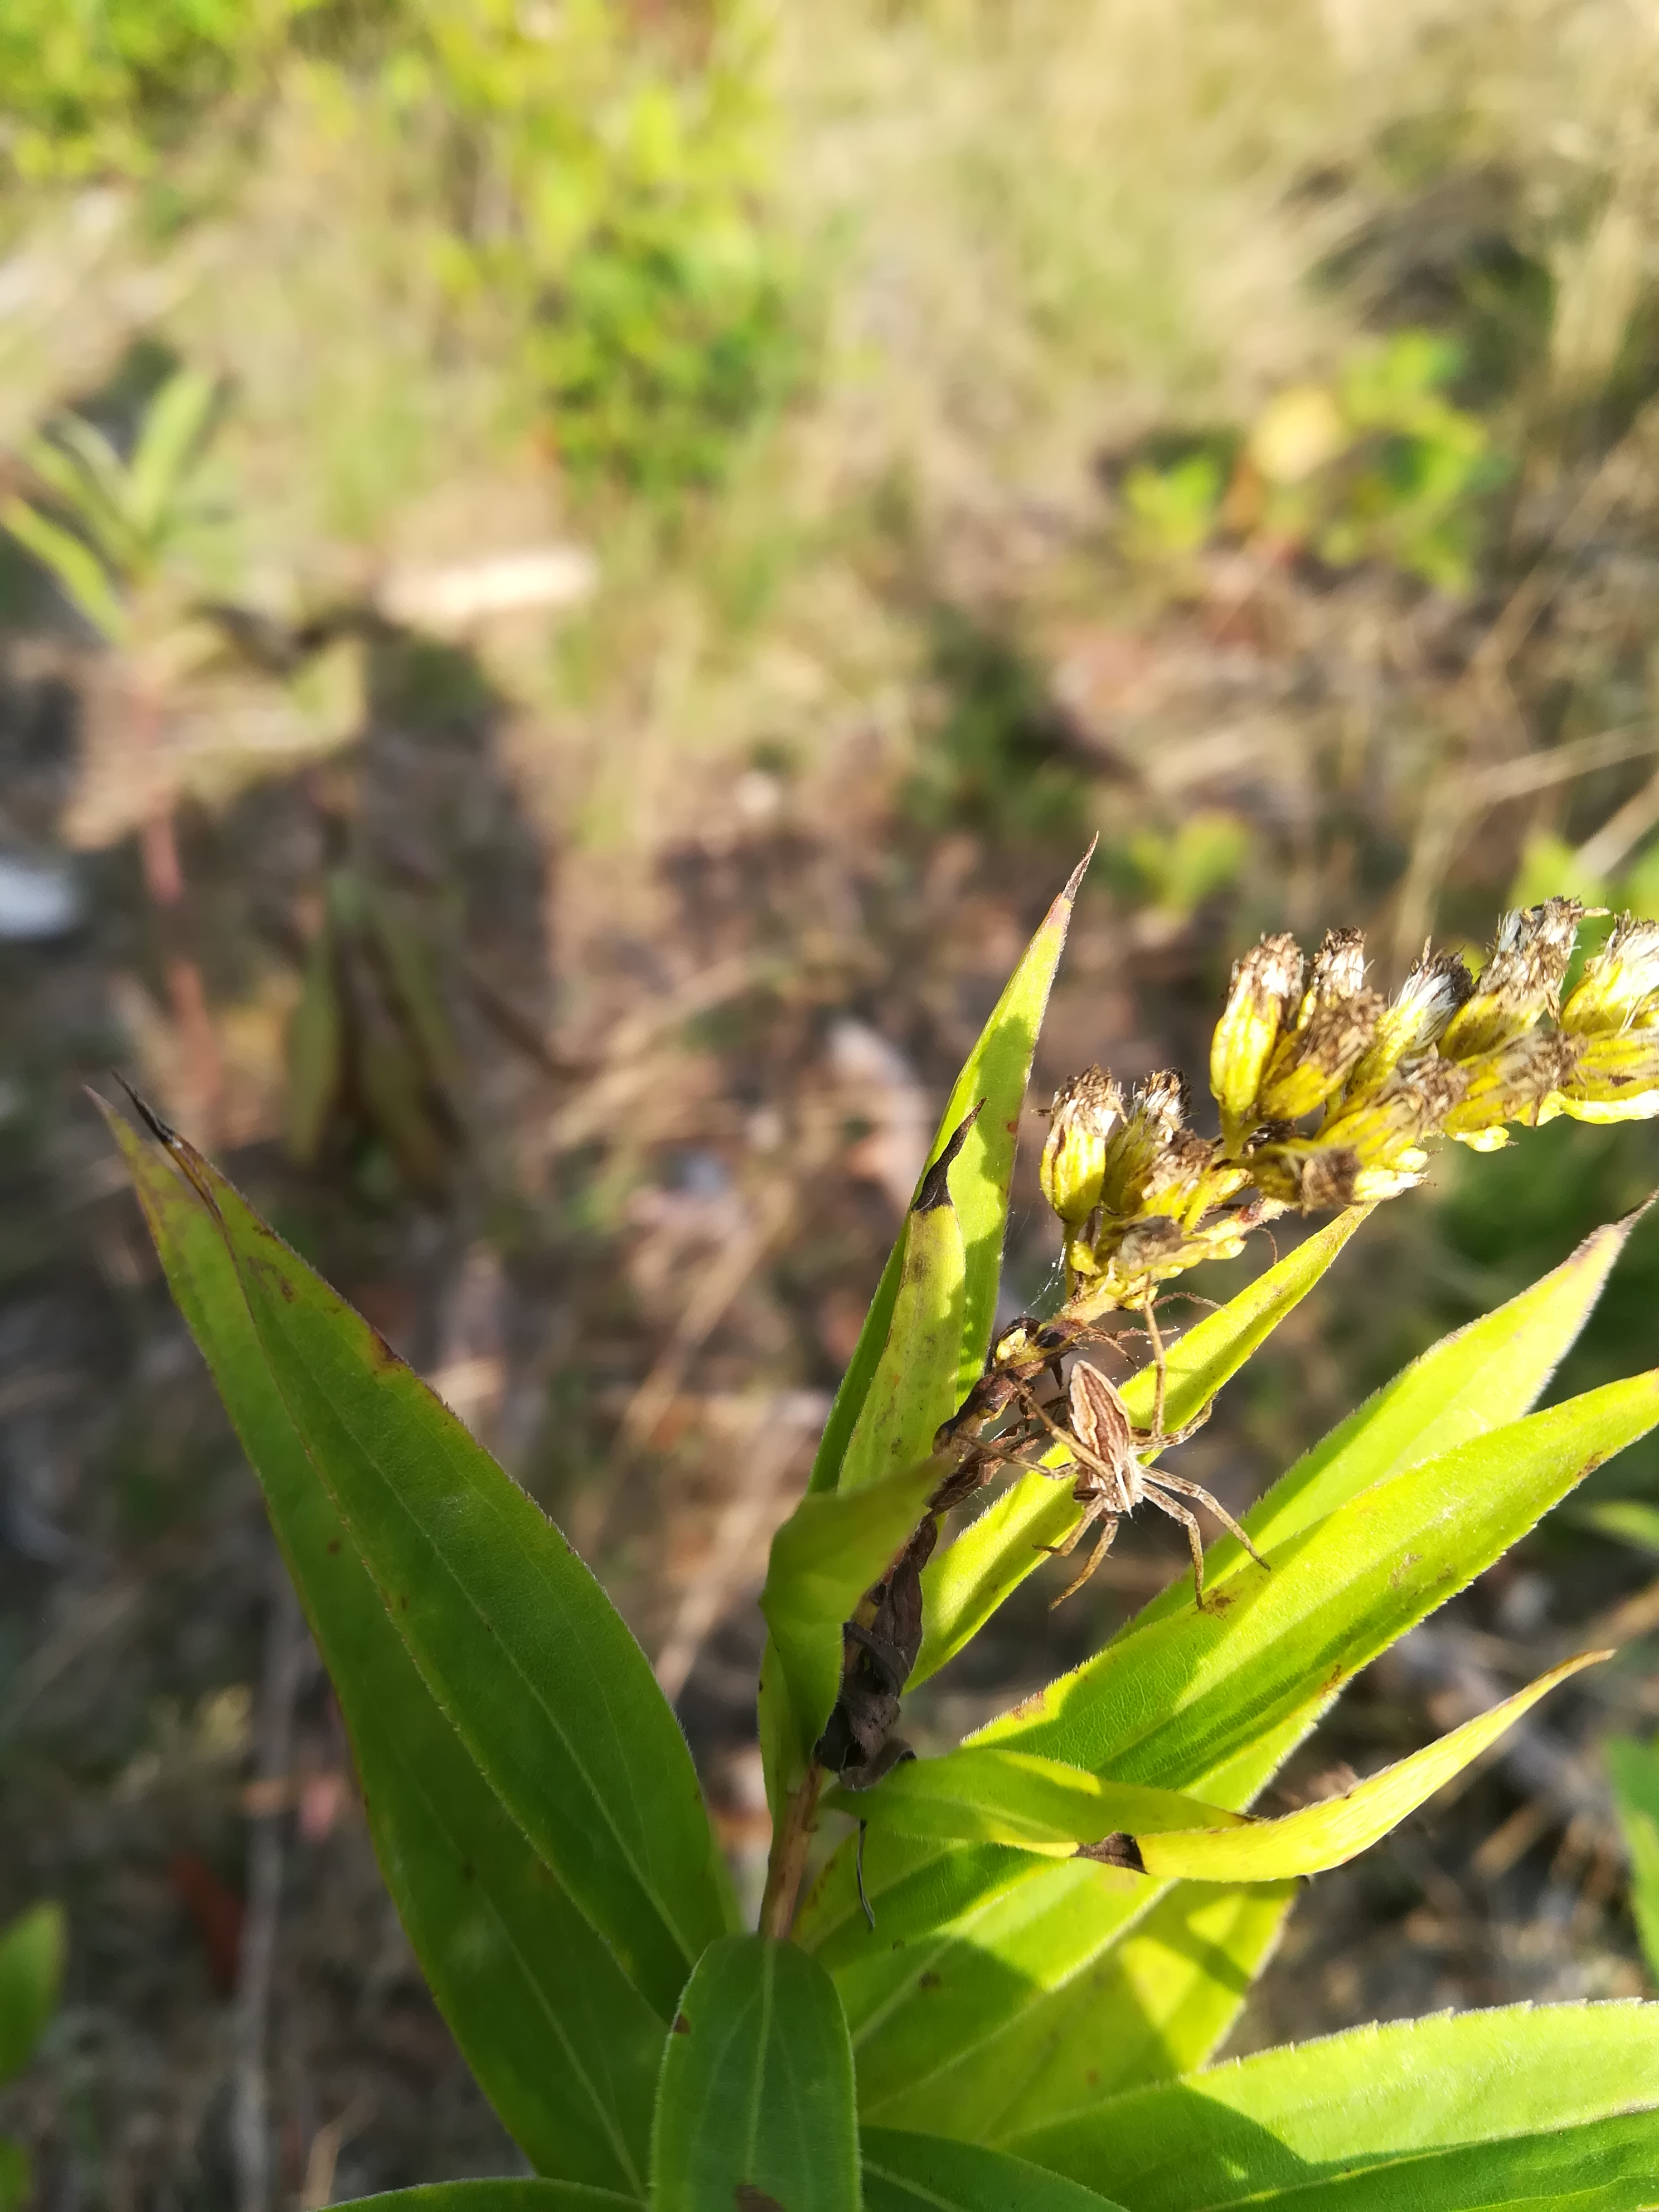spider: (962, 1256, 1309, 1644)
